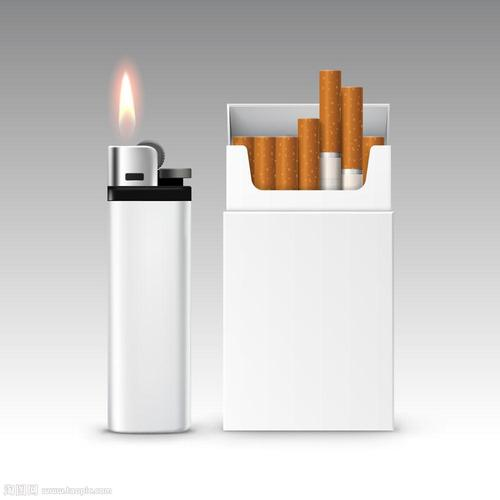fire: (101, 55, 153, 150)
